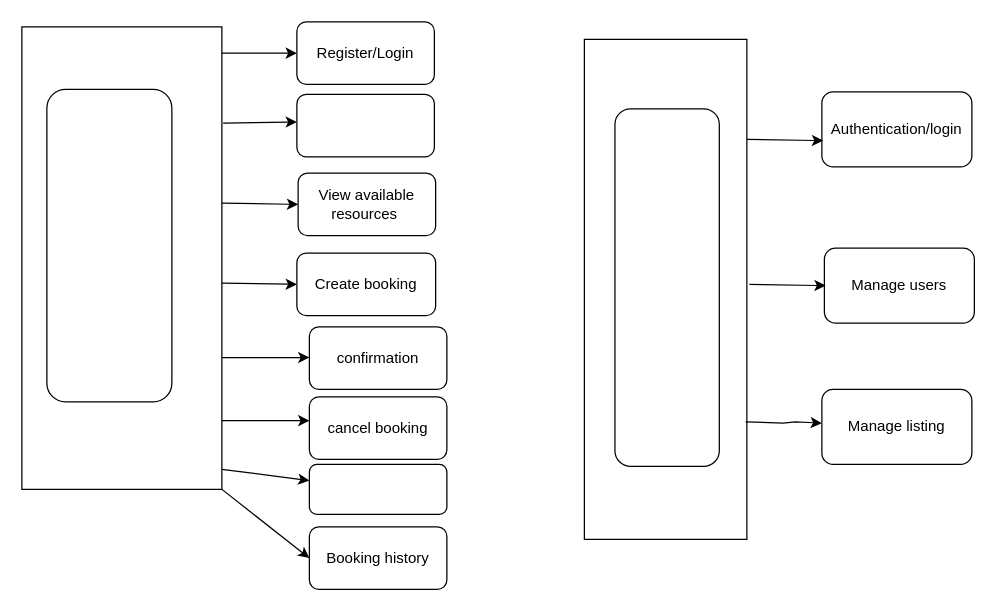
Some shapes in this 996 by 611 pixel diagram are drawn without their labels. Each missing label, with the box of its shape:
ADMIN: (614, 108, 719, 466)
Checkout: (308, 463, 447, 514)
Password Reset: (296, 93, 434, 157)
USER: (46, 88, 172, 402)
